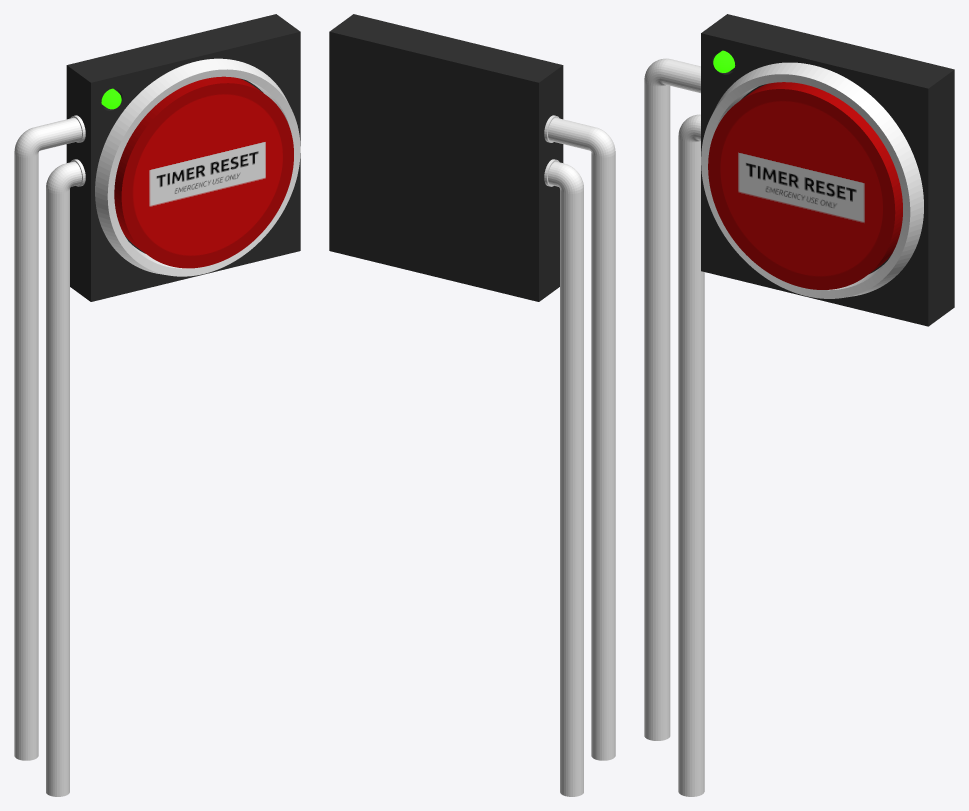
Rendered from button_unwrapped.glb.
The picture shows the model from 3 angles, left to right: view 1: azimuth 30°, elevation 25°; view 2: azimuth 150°, elevation 25°; view 3: azimuth 330°, elevation 25°; orthographic projection. The views are drawn at different scales.
Visible parts, largest first — view 1: casing, button; view 2: casing; view 3: casing, button.
Boxes of the visible parts, x1,y1,x2,y2 form: casing: (14, 14, 300, 796); button: (114, 76, 293, 268); casing: (329, 14, 615, 796); casing: (644, 14, 954, 796); button: (708, 82, 902, 289).
Bounding box in the file's own units: 2.6 × 6.5 × 0.6.
4 materials, 1 textured.
